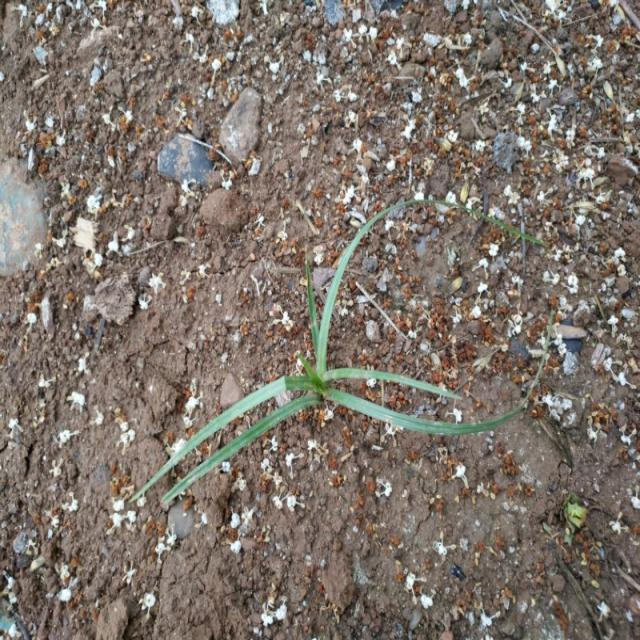sedge: (130, 218, 517, 499)
